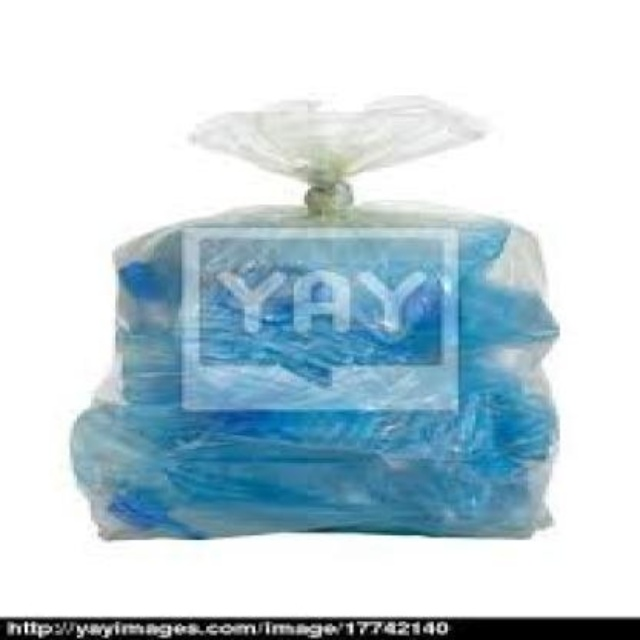trash: (72, 97, 557, 537)
